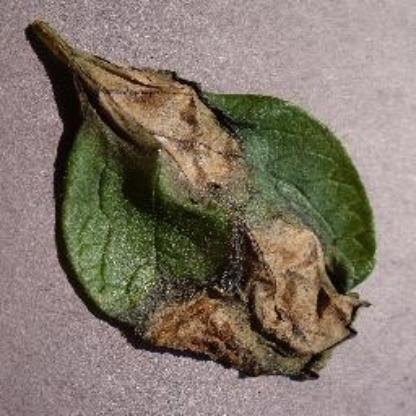Late-Blight: (17, 11, 385, 395)
